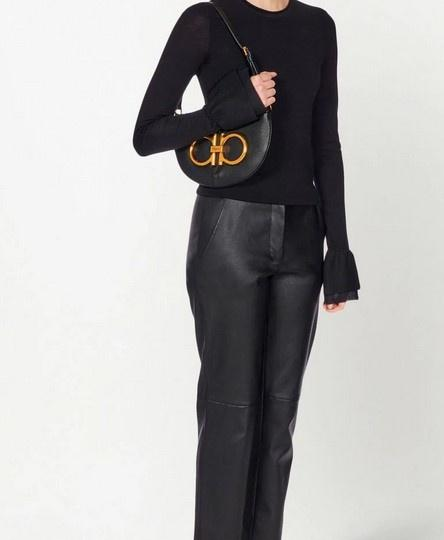FERRAGAMO: (181, 117, 262, 176)
